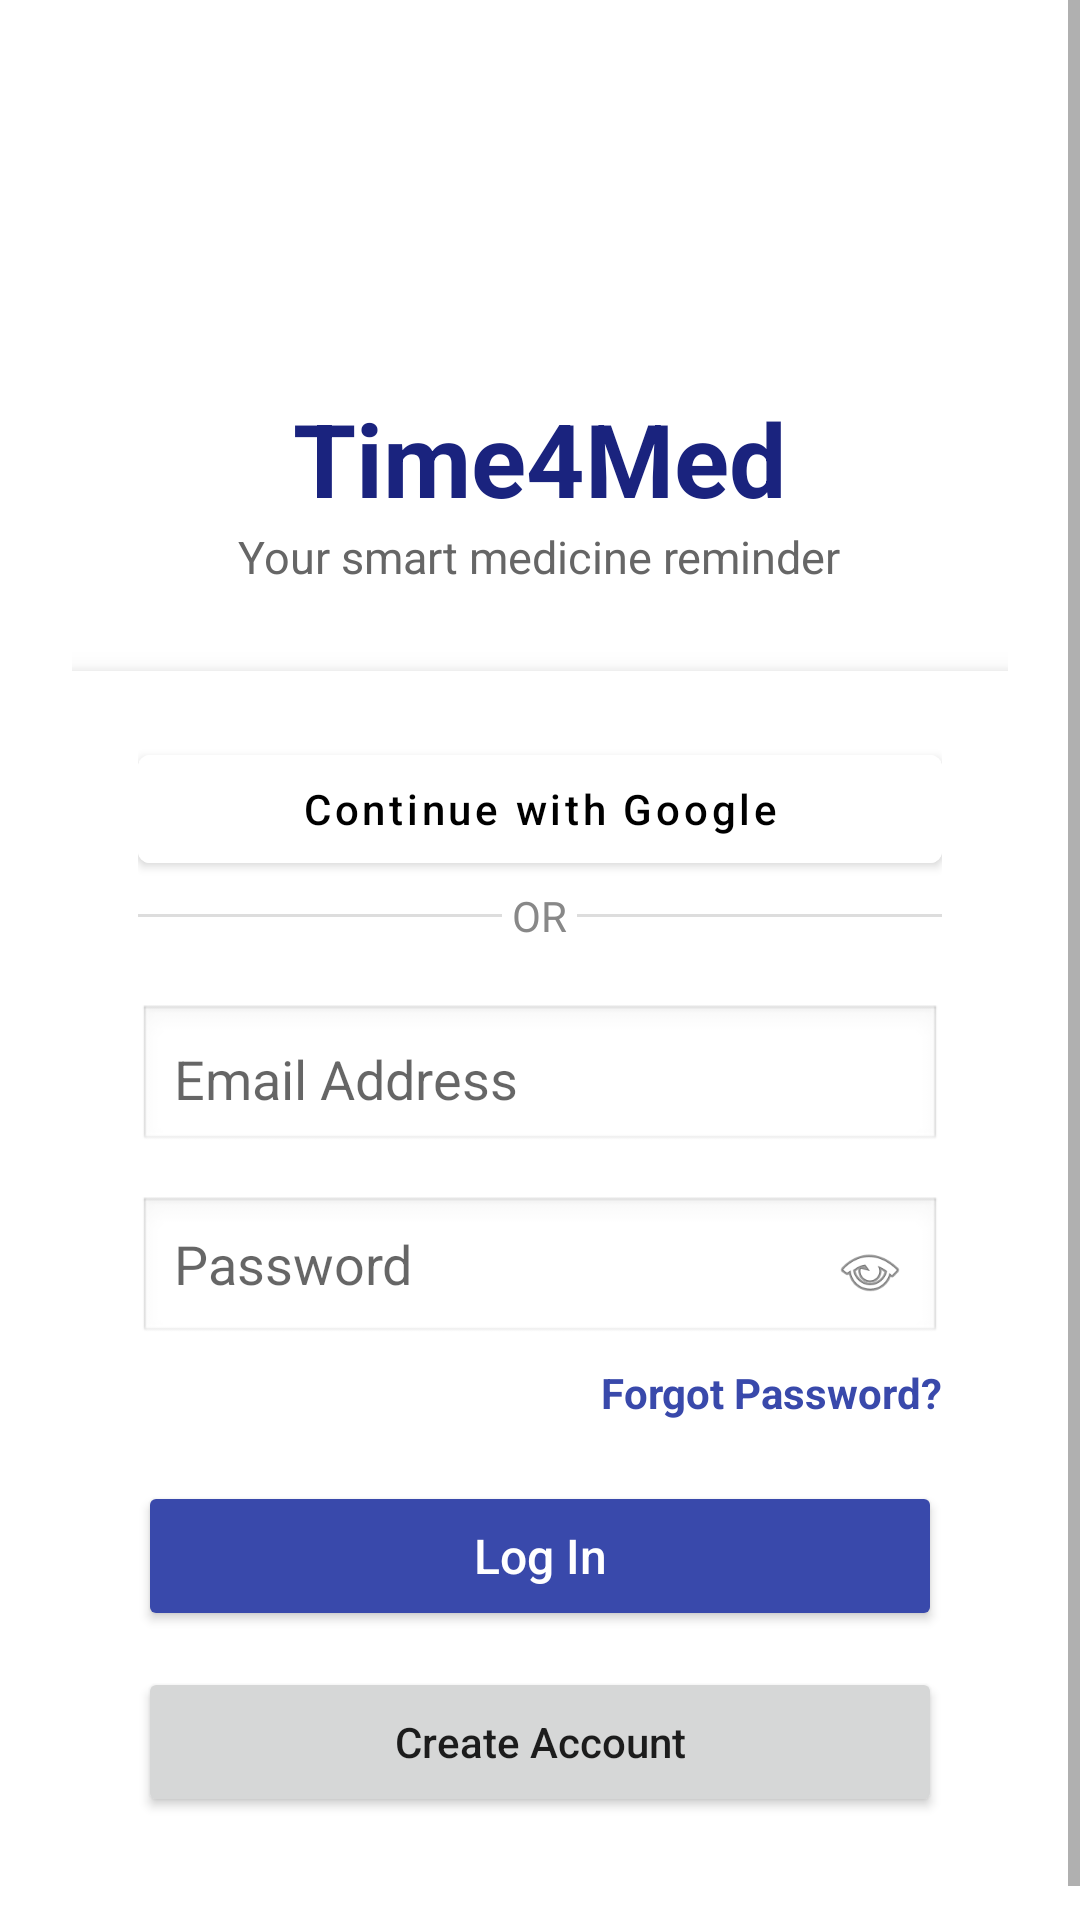

Screen size 1080×1920. Icon name, then its box in pixels as (x1, y1, x2, y2):
view: (841, 1254, 899, 1291)
